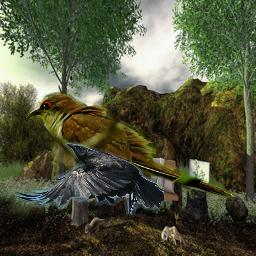Crow: (13, 142, 164, 215)
Cuckoo: (26, 91, 237, 201)
